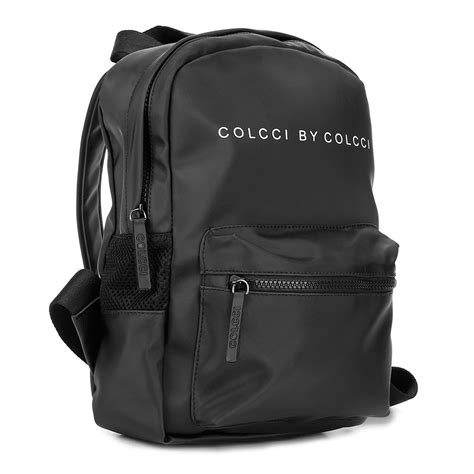nylon: (75, 23, 399, 448)
